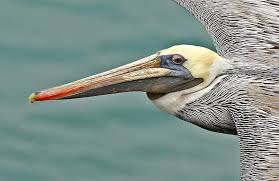pelican: (28, 1, 278, 181)
